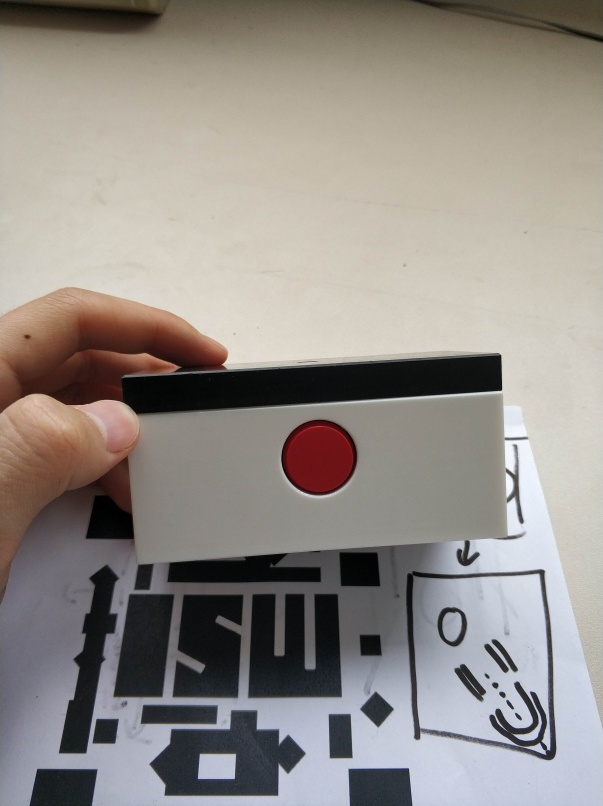black+white+red: (120, 358, 507, 565)
